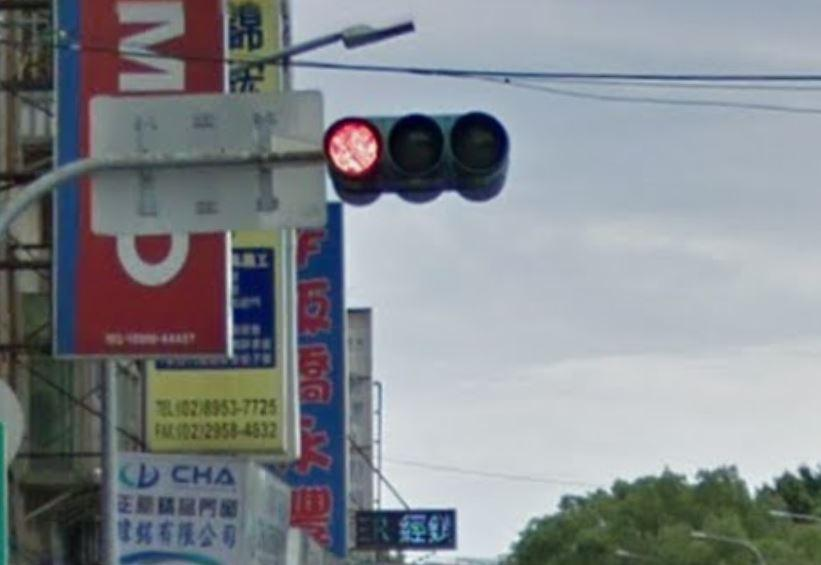red_traffic_light: (323, 113, 509, 181)
